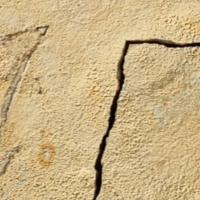crack: (72, 33, 199, 199)
